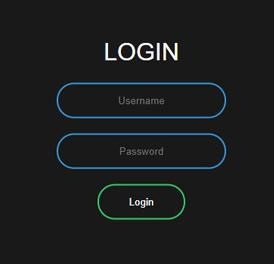button: (92, 181, 185, 222)
field: (52, 79, 229, 121), (51, 132, 227, 170)
